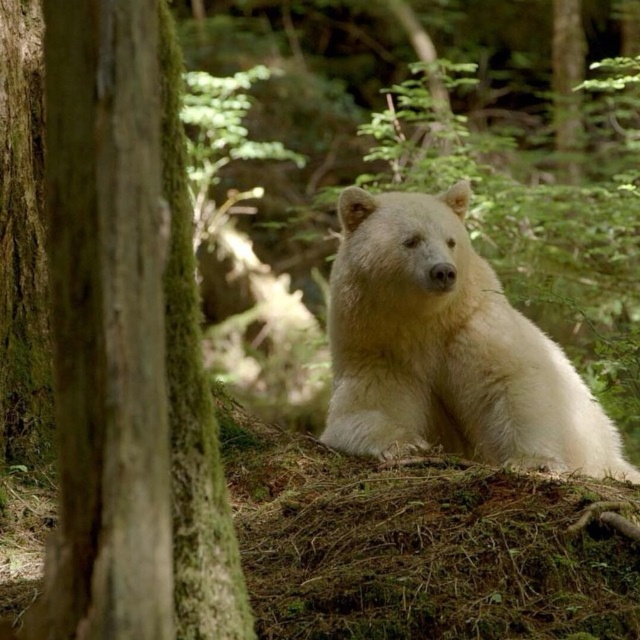Polar bear: (317, 178, 639, 480)
